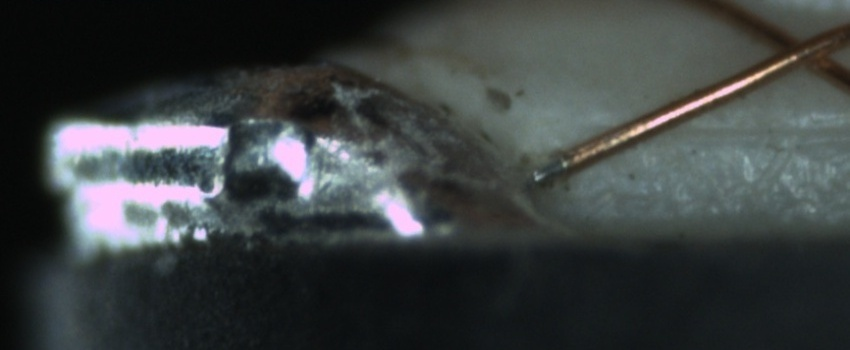CL: (747, 13, 847, 83)
DL: (611, 99, 848, 163)
TS: (533, 152, 572, 184)
